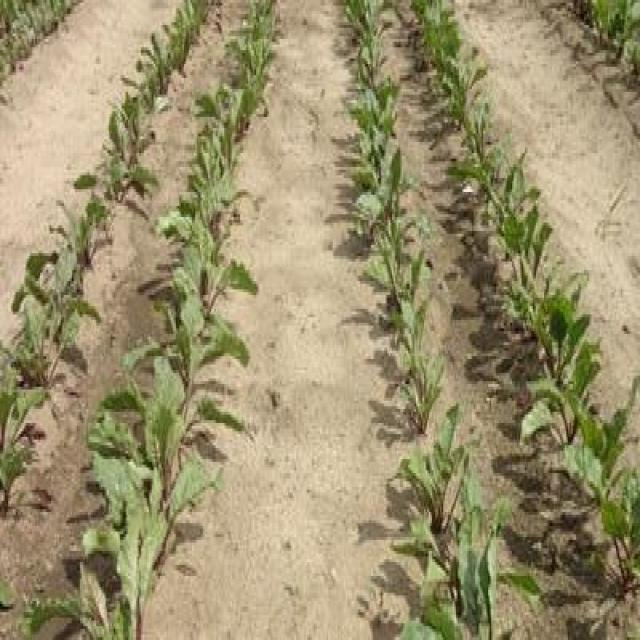row: (145, 0, 428, 640), (1, 0, 252, 640), (381, 0, 631, 640), (458, 0, 640, 432), (0, 1, 182, 350)
